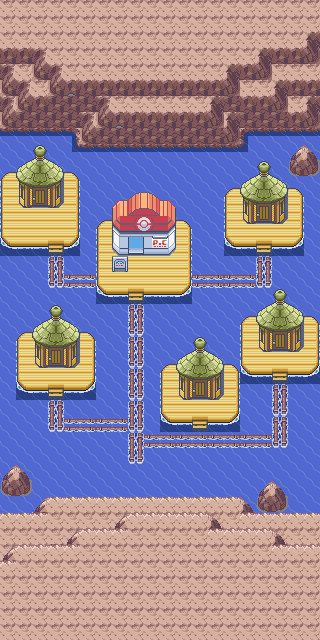normal_house: (253, 289, 306, 356), (175, 335, 227, 403), (14, 144, 66, 212), (238, 160, 289, 227), (30, 305, 81, 371)
pokemon_center: (108, 191, 180, 260)
